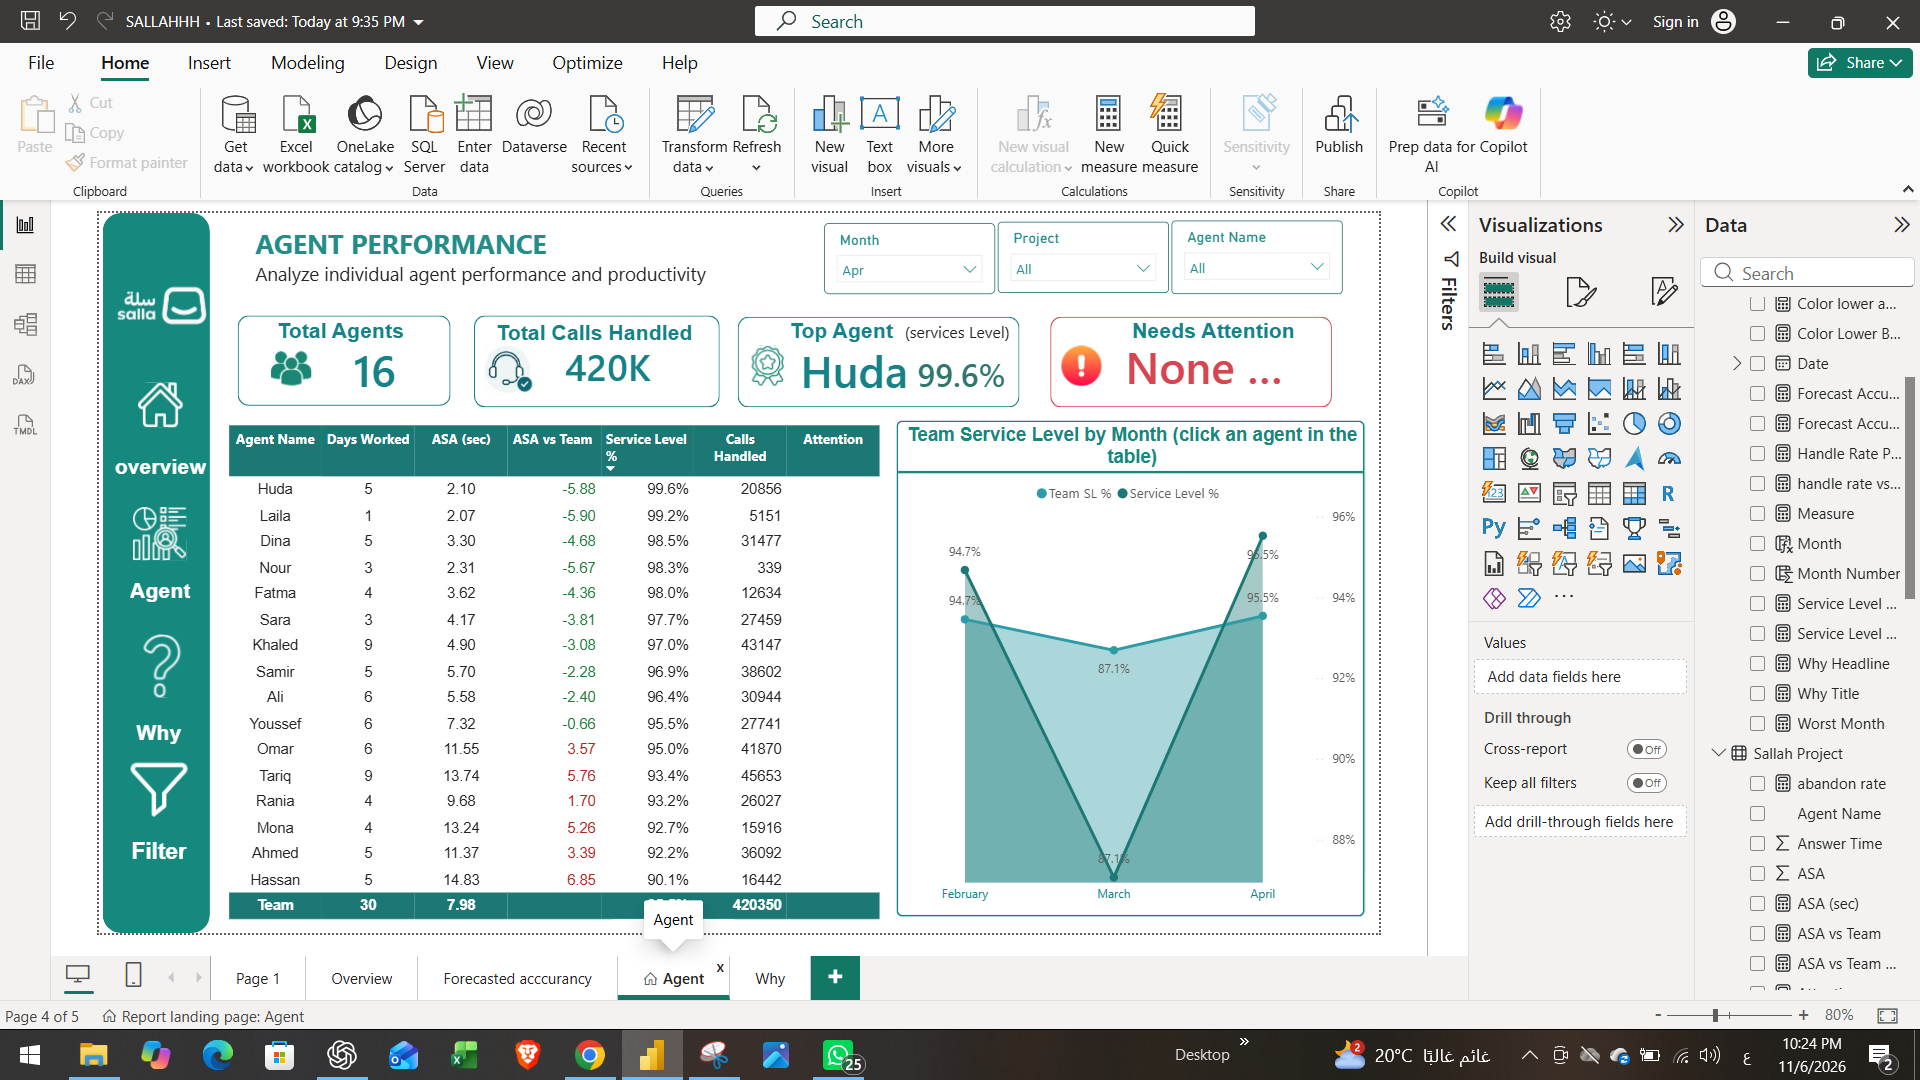

The dashboard page shown, as its layout file describes it:
{"tool":"powerbi","page":{"name":"Agent","canvas":[1280,720],"ordinal":3},"visuals":[{"type":"textbox","box":[111,7.5,628.9,75.1],"z":0,"group":"g2"},{"type":"shape","box":[139.1,101.7,212.8,90.2],"z":0,"group":"g1"},{"type":"shape","box":[48.6,0,1231.4,77.1],"z":1000},{"type":"slicer","fields":{"Values":["Sallah Project.Month.Name"]},"box":[724.3,10,171.4,71.4],"z":1000,"group":"g2"},{"type":"shape","box":[374.7,101.7,245.8,91.9],"z":1000,"group":"g1"},{"type":"shape","box":[4.3,0,107.1,720],"z":2000},{"type":"slicer","fields":{"Values":["Sallah Project.Project"]},"box":[898.5,8.9,171.1,71],"z":2000,"group":"g2"},{"type":"actionButton","box":[140.8,130.6,105,48.3],"z":2000,"group":"g1"},{"type":"slicer","fields":{"Values":["Sallah Project.Agent Name"]},"box":[1072.4,7.1,171.1,73.7],"z":3000,"group":"g2"},{"type":"cardVisual","fields":{"Data":["Sum(Sallah Project.Calls Handled)"]},"box":[415.7,106.7,188.7,89.4],"z":3000,"group":"g1"},{"type":"group","id":"g1","title":"Group 1","box":[139.1,98.3,1127.6,105.9],"z":4000},{"type":"actionButton","box":[348.7,125.3,120.4,59.6],"z":4000,"group":"g1"},{"type":"textbox","box":[377.2,101.7,238.3,39.7],"z":5000,"group":"g1"},{"type":"textbox","box":[144.7,100.9,195.7,42.6],"z":6000,"group":"g1"},{"type":"shape","box":[639.2,103.4,281.8,90.6],"z":7000,"group":"g1"},{"type":"shape","box":[951.8,103.8,281.8,90.6],"z":8000},{"type":"textbox","box":[667.1,100.6,269,55.5],"z":9000,"group":"g1"},{"type":"group","id":"g2","title":"Group 2","box":[111,7.1,1132.5,75.6],"z":10000},{"type":"textbox","box":[979.7,101,269,55.5],"z":11000},{"type":"cardVisual","fields":{"Data":["Sallah Project.Top Agent"]},"box":[672,107.8,168.9,94.1],"z":11000,"group":"g1"},{"type":"actionButton","box":[0,0,139.1,66.8],"z":12000},{"type":"cardVisual","fields":{"Data":["Count(Sallah Project.Agent Name)"]},"box":[189.2,104.1,174.9,100.1],"z":12000,"group":"g1"},{"type":"cardVisual","fields":{"Data":["Sallah Project.Top Service Level"]},"box":[785.2,125.8,155.6,68.8],"z":13000,"group":"g1"},{"type":"actionButton","box":[34.8,146.1,52.9,91.8],"z":13000},{"type":"cardVisual","fields":{"Data":["Sallah Project.Needs Attention Agent"]},"box":[997.4,105.5,224.7,93.6],"z":14000},{"type":"actionButton","box":[627.1,128.1,85.1,48.2],"z":14000,"group":"g1"},{"type":"actionButton","box":[27.8,417.4,90.4,71],"z":15000},{"type":"actionButton","box":[22.3,537,96,75.1],"z":16000},{"type":"textbox","box":[947.8,100.3,132.7,44.6],"z":17000,"group":"g1"},{"type":"actionButton","box":[30.6,289.4,65.4,61.2],"z":18000},{"type":"actionButton","box":[939.6,128.5,85.1,48.2],"z":19000},{"type":"actionButton","box":[11.1,229.6,100.2,48.7],"z":20000},{"type":"actionButton","box":[11.1,353.4,100.2,48.7],"z":21000},{"type":"actionButton","box":[10,495.7,100,48.6],"z":22000},{"type":"actionButton","box":[0.3,22.3,132.7,92.9],"z":24000},{"type":"actionButton","box":[9.7,617.7,100.2,40.3],"z":25000},{"type":"tableEx","fields":{"Values":["Sallah Project.Agent Name","Sallah Project.Days Worked","Sallah Project.ASA (sec)","Sallah Project.ASA vs Team","Sallah Project.Service Level %","Sum(Sallah Project.Calls Handled)","Sallah Project.Attention"]},"box":[124.3,207.5,673.2,512.7],"z":26000},{"type":"areaChart","fields":{"Category":["Calendar.Date.Variation.Date Hierarchy.Month"],"Y":["Sallah Project.Team SL %"],"Y2":["Sallah Project.Service Level %"]},"box":[797.5,207.5,468.1,495.8],"z":27000}]}

Visuals, with their boxes on the page's 1280x720 design canvas (x1, y1, x2, y2). These are canvas units, not pixel positions in the 1920x1080 screenshot, which may show the page scaled, cropped or inside an application window:
textbox: 111:8:740:83
shape: 139:102:352:192
shape: 49:0:1280:77
slicer - Sallah Project.Month.Name: 724:10:896:81
shape: 375:102:620:194
shape: 4:0:111:720
slicer - Sallah Project.Project: 898:9:1070:80
actionButton: 141:131:246:179
slicer - Sallah Project.Agent Name: 1072:7:1244:81
cardVisual - Sum(Sallah Project.Calls Handled): 416:107:604:196
"Group 1" group: 139:98:1267:204
actionButton: 349:125:469:185
textbox: 377:102:616:141
textbox: 145:101:340:144
shape: 639:103:921:194
shape: 952:104:1234:194
textbox: 667:101:936:156
"Group 2" group: 111:7:1244:83
textbox: 980:101:1249:156
cardVisual - Sallah Project.Top Agent: 672:108:841:202
actionButton: 0:0:139:67
cardVisual - Count(Sallah Project.Agent Name): 189:104:364:204
cardVisual - Sallah Project.Top Service Level: 785:126:941:195
actionButton: 35:146:88:238
cardVisual - Sallah Project.Needs Attention Agent: 997:106:1222:199
actionButton: 627:128:712:176
actionButton: 28:417:118:488
actionButton: 22:537:118:612
textbox: 948:100:1080:145
actionButton: 31:289:96:351
actionButton: 940:128:1025:177
actionButton: 11:230:111:278
actionButton: 11:353:111:402
actionButton: 10:496:110:544
actionButton: 0:22:133:115
actionButton: 10:618:110:658
tableEx - Sallah Project.Agent Name x Sallah Project.Days Worked: 124:208:798:720
areaChart - Calendar.Date.Variation.Date Hierarchy.Month x Sallah Project.Team SL %: 798:208:1266:703
